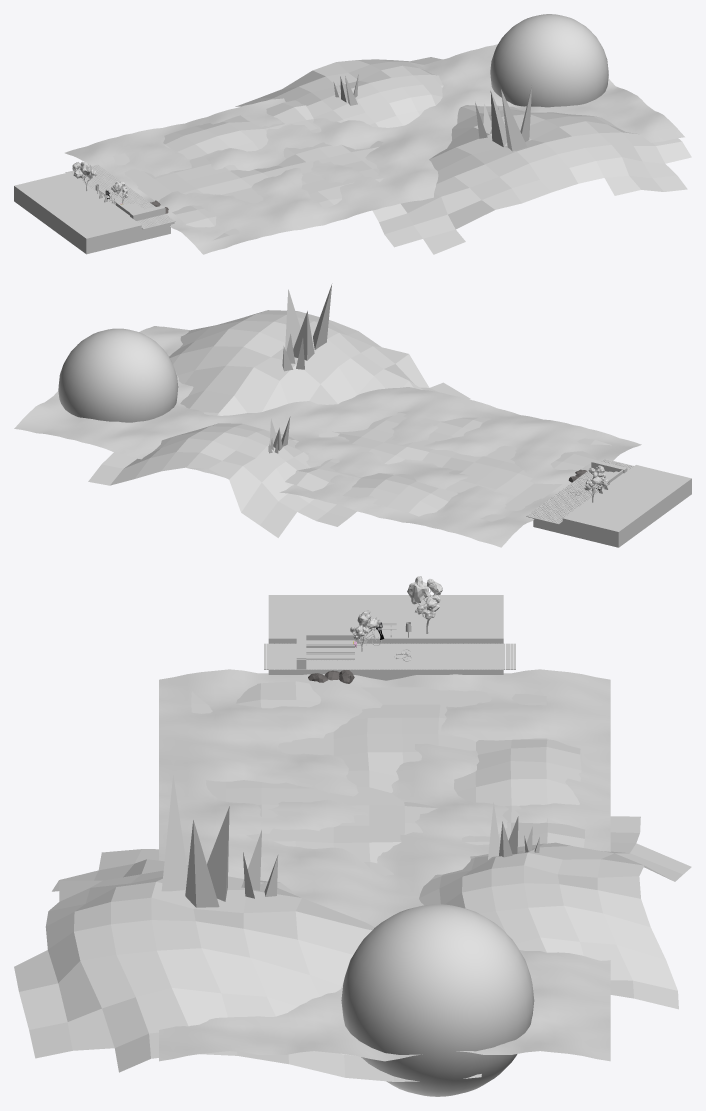
The model's file is Havet.fbx.
3 views of the same model, one above another, from view 1: azimuth 30°, elevation 25°; view 2: azimuth 150°, elevation 25°; view 3: azimuth 270°, elevation 25° (orthographic). The views are drawn at different scales.
Visible parts, largest first — view 1: Vand, Forhøjning1, Forhøjning3, Sol, Forhøjning2, CementPlatform, Græs2, TræPlatform; view 2: Vand, Forhøjning1, Forhøjning3, Forhøjning2, Sol, CementPlatform, TræPlatform, Græs2, Græs1; view 3: Vand, Forhøjning1, Forhøjning3, Sol, Forhøjning2, CementPlatform, TræPlatform, Græs2, Græs1, TræVenstre, Græs4, CementTrappe.001.
Part boxes in pixels (x1,y1,x2,y2): Vand: [65, 44, 684, 254]; Forhøjning1: [372, 105, 691, 254]; Forhøjning3: [113, 100, 383, 240]; Sol: [490, 14, 608, 107]; Forhøjning2: [235, 57, 443, 127]; CementPlatform: [14, 172, 174, 254]; Græs2: [490, 86, 531, 151]; TræPlatform: [65, 164, 175, 229]; Vand: [14, 326, 641, 547]; Forhøjning1: [162, 310, 470, 415]; Forhøjning3: [285, 411, 611, 521]; Forhøjning2: [88, 423, 356, 537]; Sol: [58, 328, 178, 422]; CementPlatform: [533, 460, 691, 547]; TræPlatform: [526, 459, 633, 524]; Græs2: [285, 283, 332, 360]; Græs1: [282, 334, 304, 371]; Vand: [159, 669, 610, 1061]; Forhøjning1: [14, 849, 481, 1081]; Forhøjning3: [191, 681, 585, 875]; Sol: [341, 904, 534, 1096]; Forhøjning2: [419, 816, 691, 1009]; CementPlatform: [268, 595, 503, 680]; TræPlatform: [264, 643, 515, 669]; Græs2: [161, 775, 229, 907]; Græs1: [241, 830, 278, 898]; TræVenstre: [407, 576, 442, 619]; Græs4: [488, 802, 518, 859]; CementTrappe.001: [296, 634, 354, 669].
Size of the model in its own units: 8559 by 1878 by 5464.
